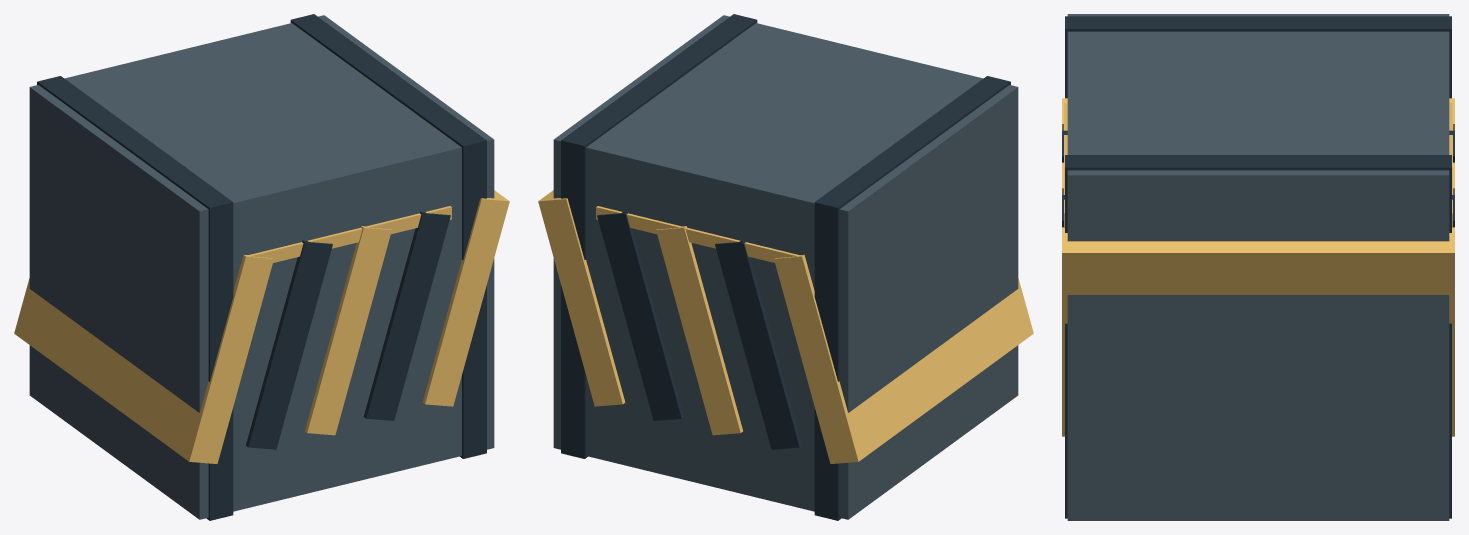
File: terrain-barricade.glb
3 renders of one model, left to right at view 1: azimuth 30°, elevation 25°; view 2: azimuth 150°, elevation 25°; view 3: azimuth 270°, elevation 25°, orthographic. The views are drawn at different scales.
Visible parts, largest first — view 1: terrain-barricade; view 2: terrain-barricade; view 3: terrain-barricade.
Part boxes in pixels (x1,y1,x2,y2): terrain-barricade: (14, 14, 509, 520); terrain-barricade: (538, 14, 1033, 520); terrain-barricade: (1062, 14, 1454, 520).
Size of the model in its own units: 1.09 by 1.01 by 1.03.
